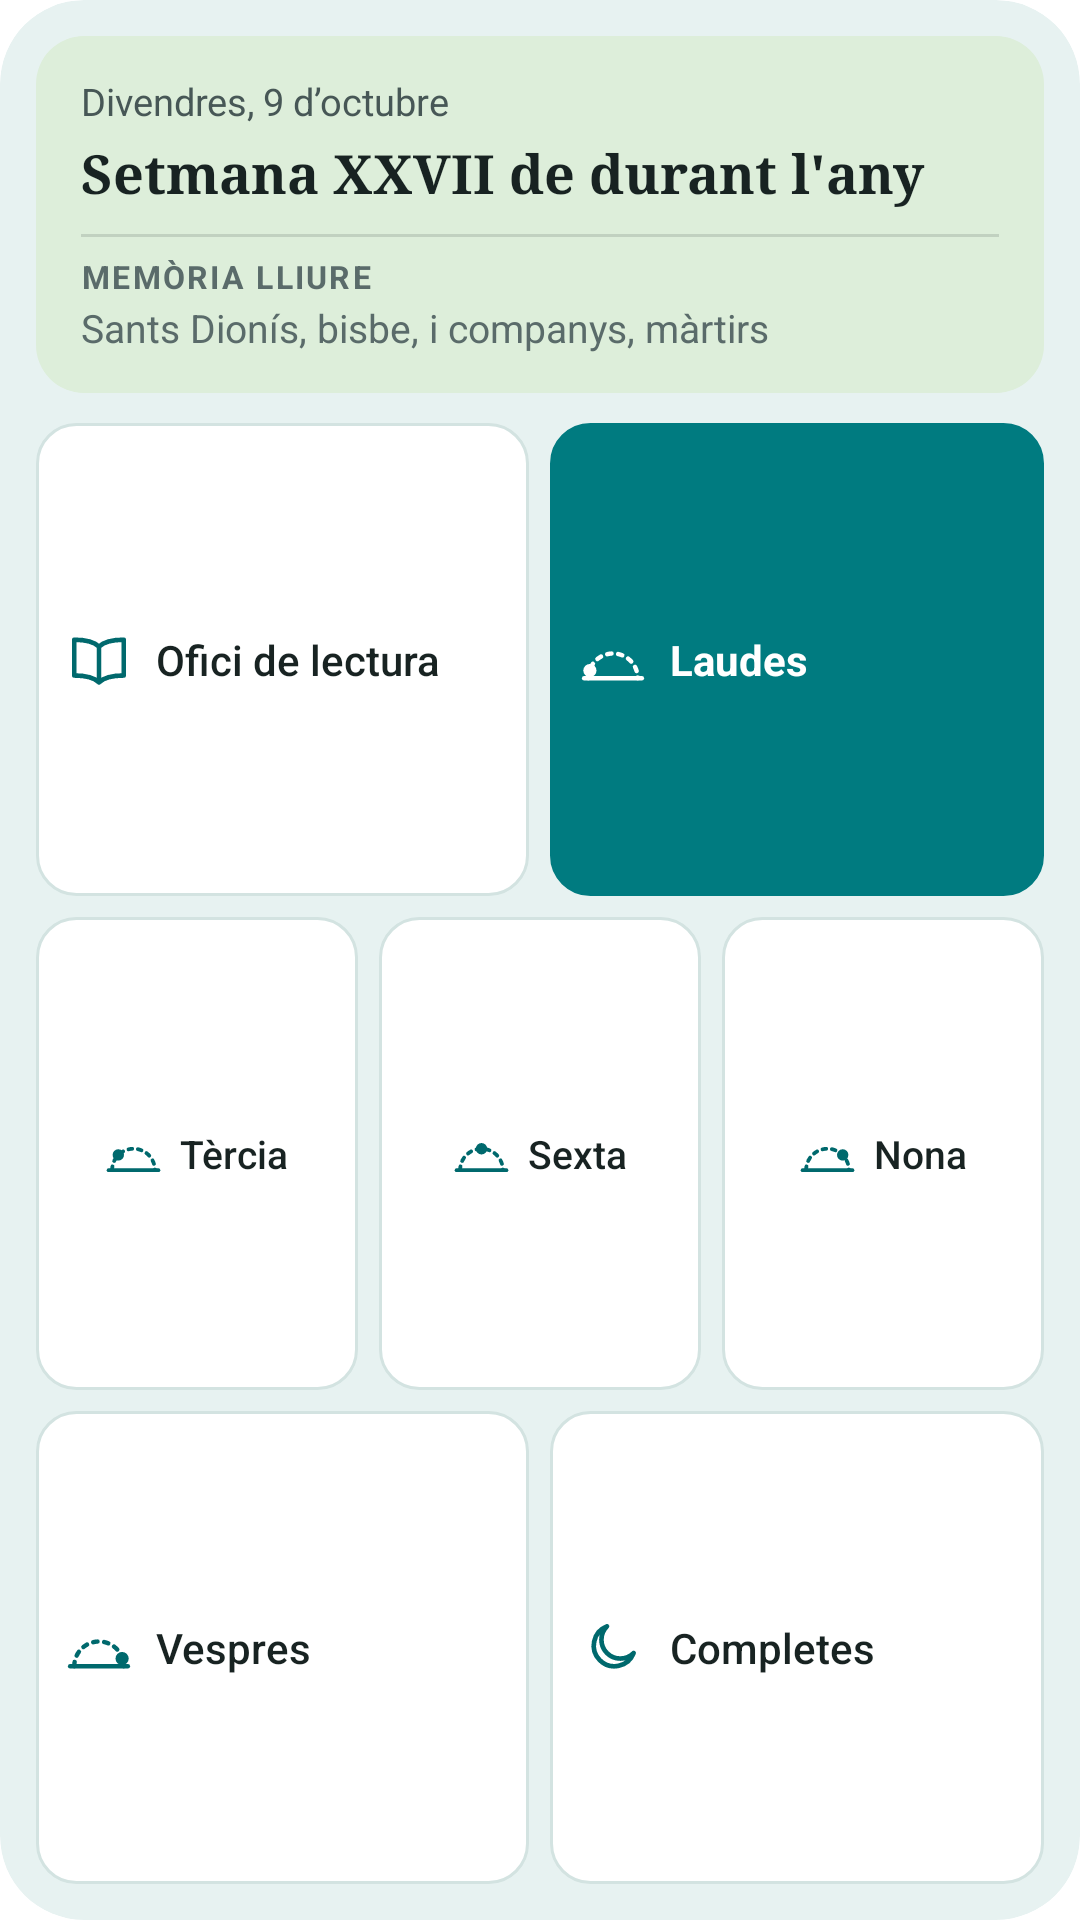

Where icons sit on this 1080×1920 app screen, as (x1, y1, x2, y2):
hour ofici: (72, 637, 126, 685)
hour tercia: (106, 1147, 161, 1172)
